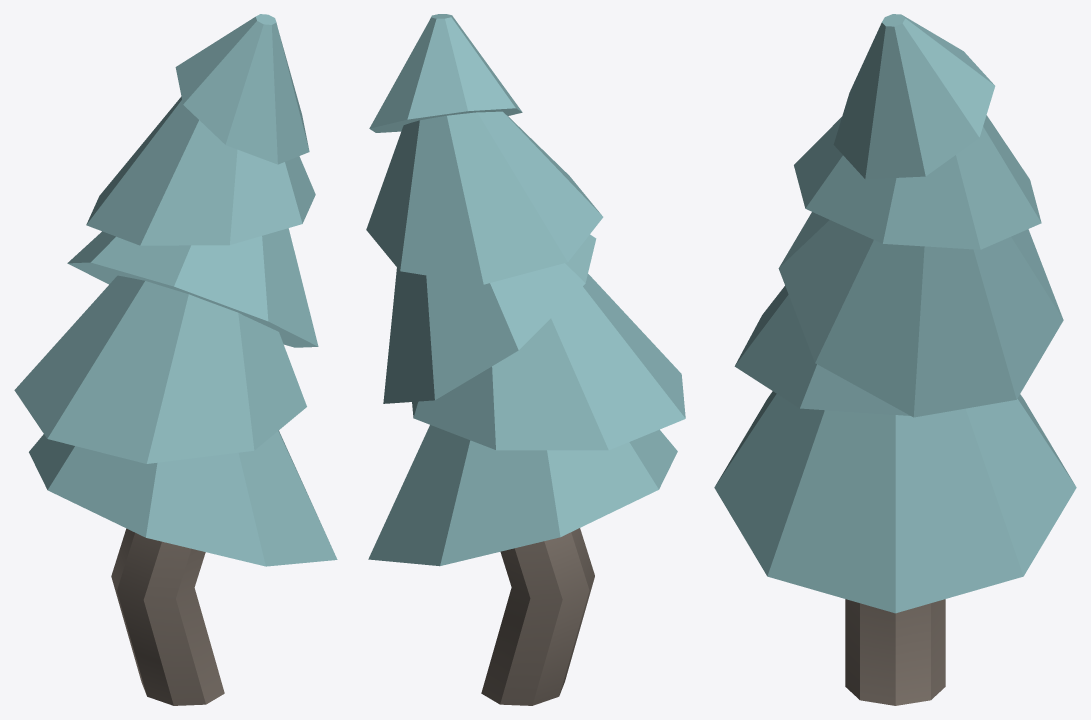
File: AssetPinoSAzul.fbx
The picture shows the model from 3 angles, left to right: view 1: azimuth 30°, elevation 25°; view 2: azimuth 150°, elevation 25°; view 3: azimuth 270°, elevation 25°; orthographic projection. The views are drawn at different scales.
Visible parts, largest first — view 1: pasted__pCylinder16, pasted__pCylinder17; view 2: pasted__pCylinder16, pasted__pCylinder17; view 3: pasted__pCylinder16, pasted__pCylinder17.
Boxes of the visible parts, x1,y1,x2,y2 form: pasted__pCylinder16: (14,14,337,566); pasted__pCylinder17: (111,528,224,705); pasted__pCylinder16: (366,14,685,566); pasted__pCylinder17: (481,528,594,705); pasted__pCylinder16: (714,14,1076,613); pasted__pCylinder17: (845,599,945,705).
Bounding box in the file's own units: 3.14 × 6.87 × 3.17.
